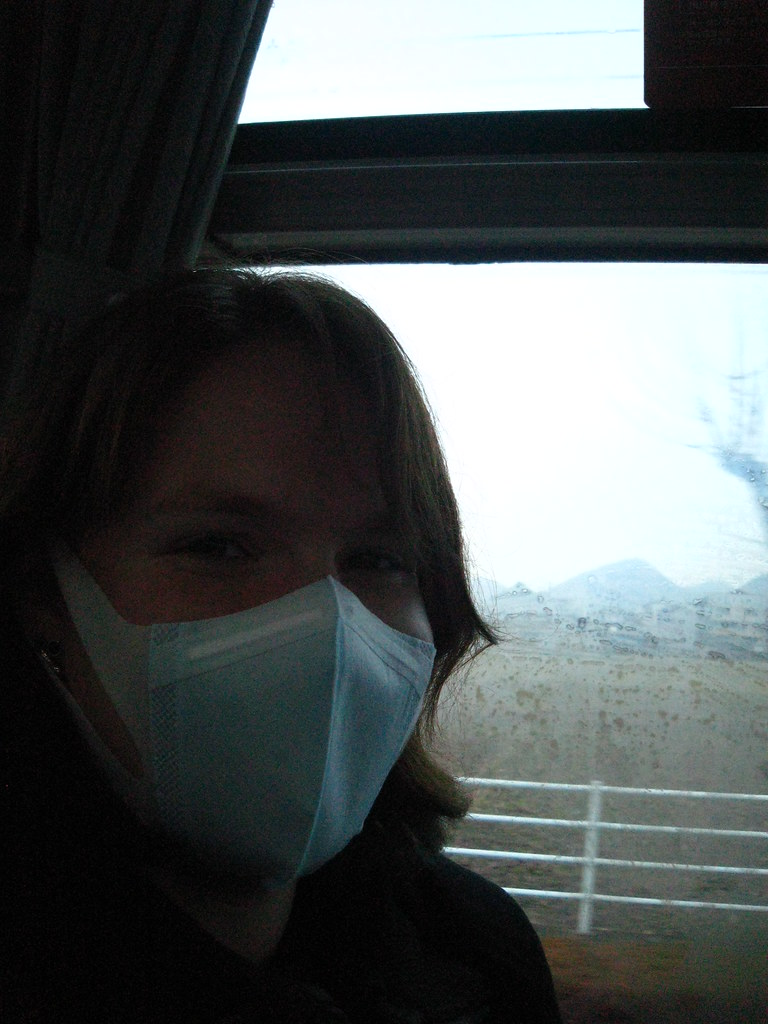homemade: (86, 573, 449, 884)
